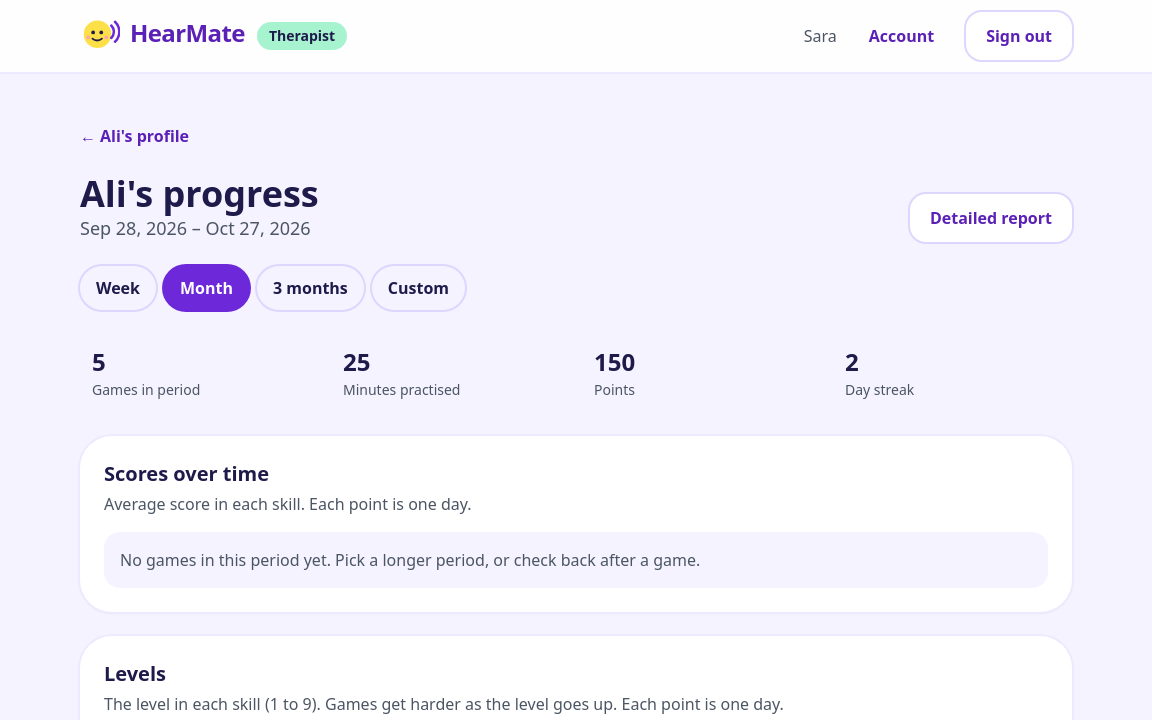
Test: Therapist access to children › shows the linked child's progress and report in the therapist's area
Expected: the heading "Ali's progress" is shown, [80,174,319,214]
Click the link "Detailed report": (991, 218) [910,194,1072,242]
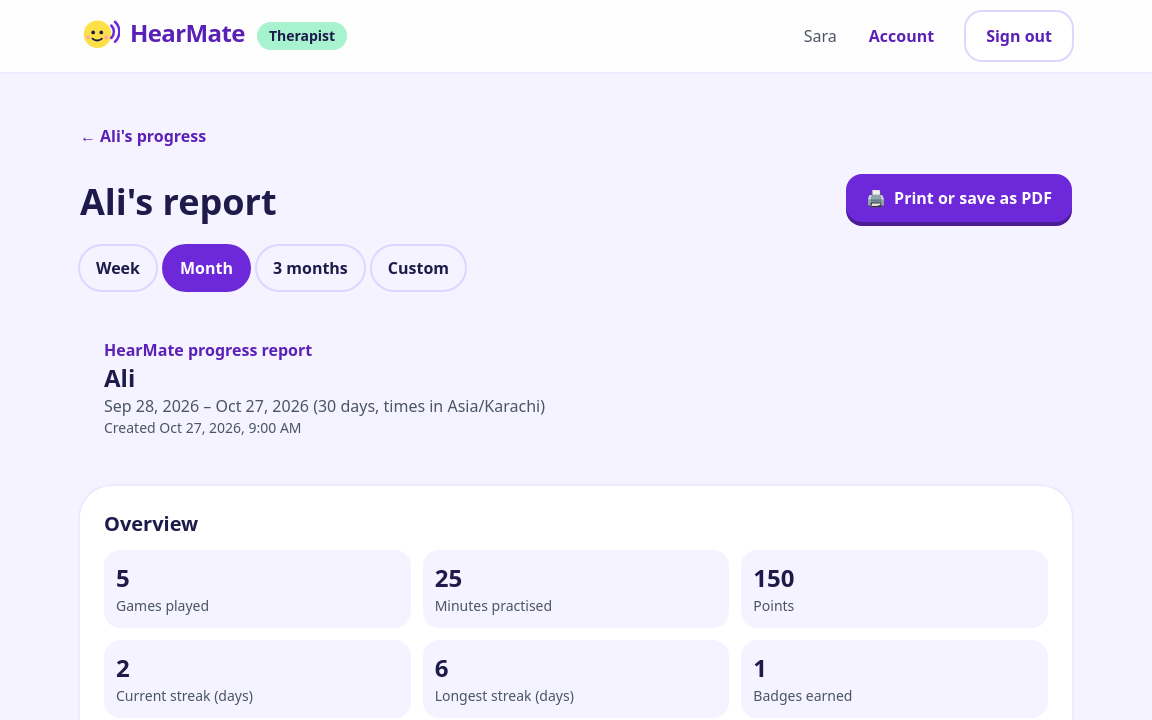
Now the text "HearMate progress report" is shown, box [104,339,312,361]
